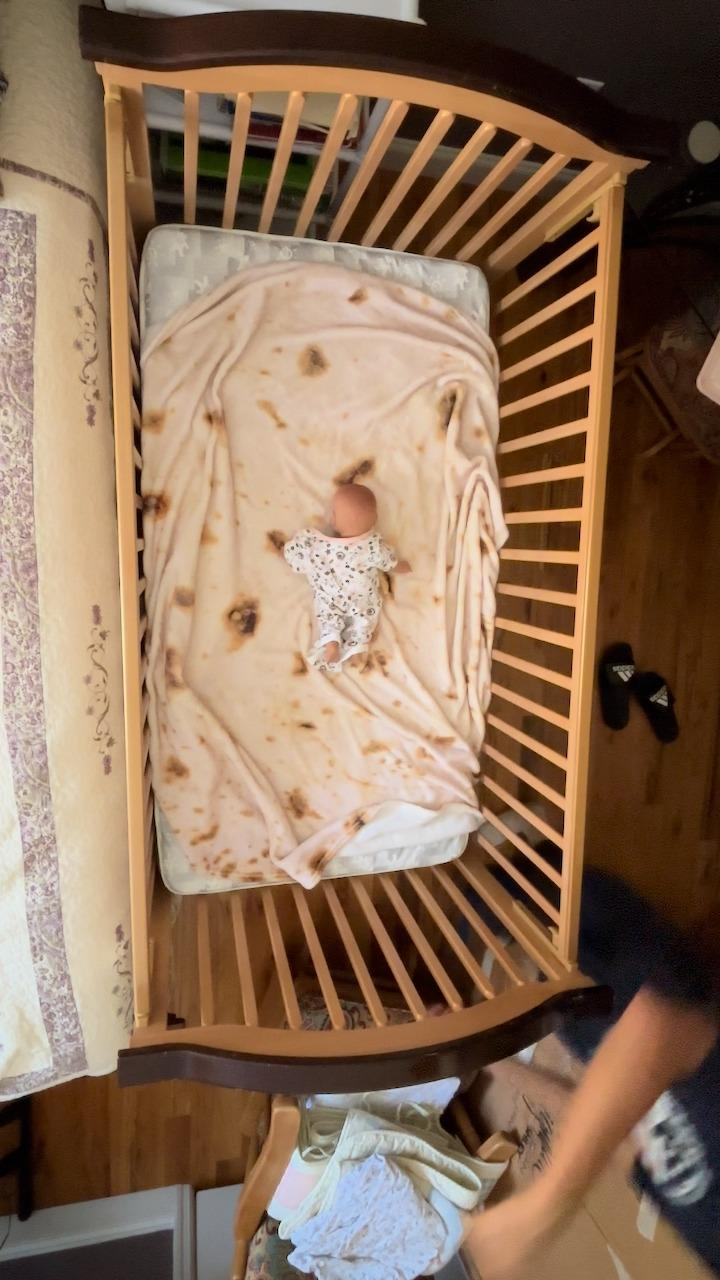baby: (277, 483, 415, 674)
